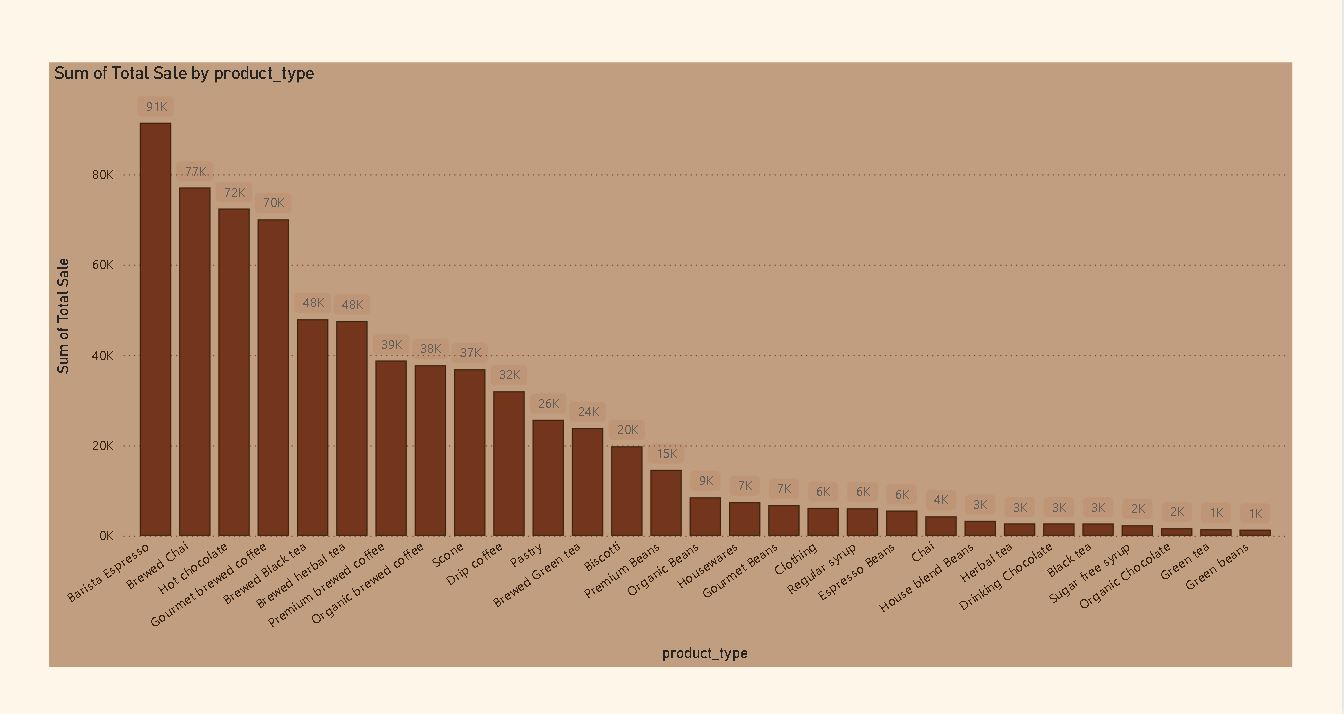

Layout of this report page (visuals, bound fields, positions):
{"tool":"powerbi","page":{"name":"Product Type","canvas":[1280,720],"ordinal":2},"visuals":[{"type":"columnChart","fields":{"Category":["Transactions.product_type"],"Y":["Sum(Transactions.Total Sale)"]},"box":[160,96,1056,512],"z":0},{"type":"actionButton","box":[0,0,100,40],"z":1000}]}

Visuals, with their boxes on the page's 1280x720 design canvas (x1, y1, x2, y2). These are canvas units, not pixel positions in the 1344x714 screenshot, which may show the page scaled, cropped or inside an application window:
columnChart - Transactions.product_type x Sum(Transactions.Total Sale): 160, 96, 1216, 608
actionButton: 0, 0, 100, 40
